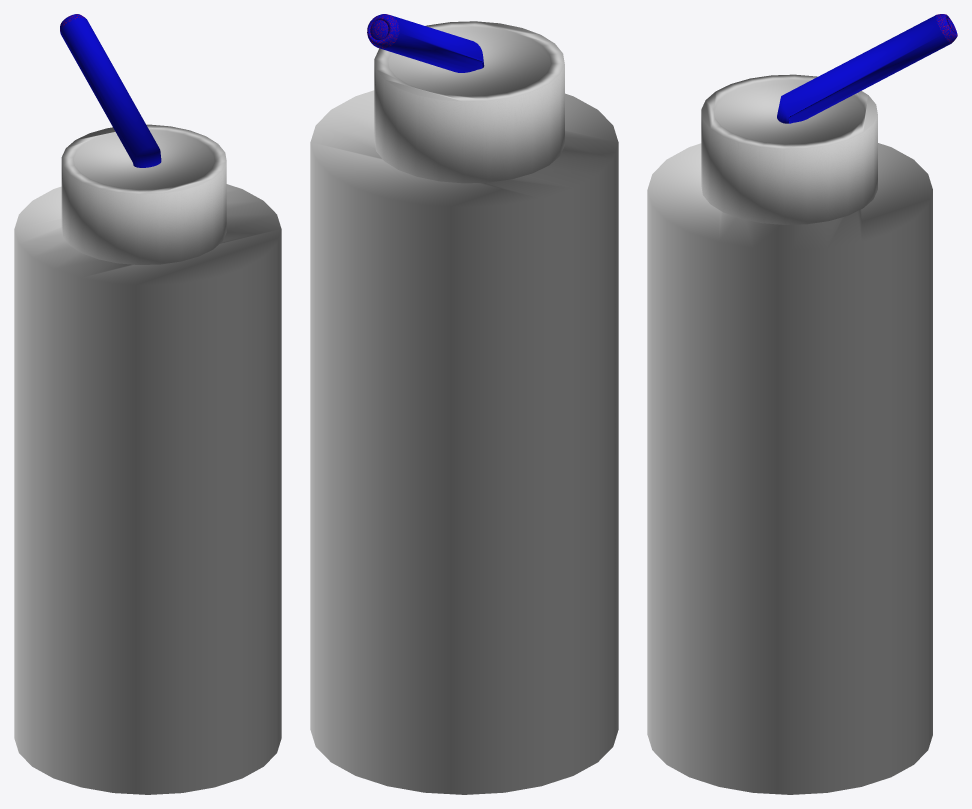
The picture shows the model from 3 angles, left to right: view 1: azimuth 30°, elevation 25°; view 2: azimuth 150°, elevation 25°; view 3: azimuth 270°, elevation 25°; orthographic projection. The views are drawn at different scales.
Parts seen in each view (by area): view 1: mesh1_mesh1-geometry, mesh2_mesh2-geometry, mesh3_mesh3-geometry; view 2: mesh1_mesh1-geometry, mesh2_mesh2-geometry, mesh3_mesh3-geometry; view 3: mesh1_mesh1-geometry, mesh2_mesh2-geometry, mesh3_mesh3-geometry.
Part boxes in pixels (x1,y1,x2,y2): mesh1_mesh1-geometry: (14,184,281,794); mesh2_mesh2-geometry: (61,124,226,264); mesh3_mesh3-geometry: (60,14,161,167); mesh1_mesh1-geometry: (310,90,618,794); mesh2_mesh2-geometry: (374,21,564,183); mesh3_mesh3-geometry: (367,14,484,72); mesh1_mesh1-geometry: (647,143,932,794); mesh2_mesh2-geometry: (701,74,877,224); mesh3_mesh3-geometry: (777,14,957,123).
Size of the model in its own units: 0.3183 by 0.8828 by 0.3455.
